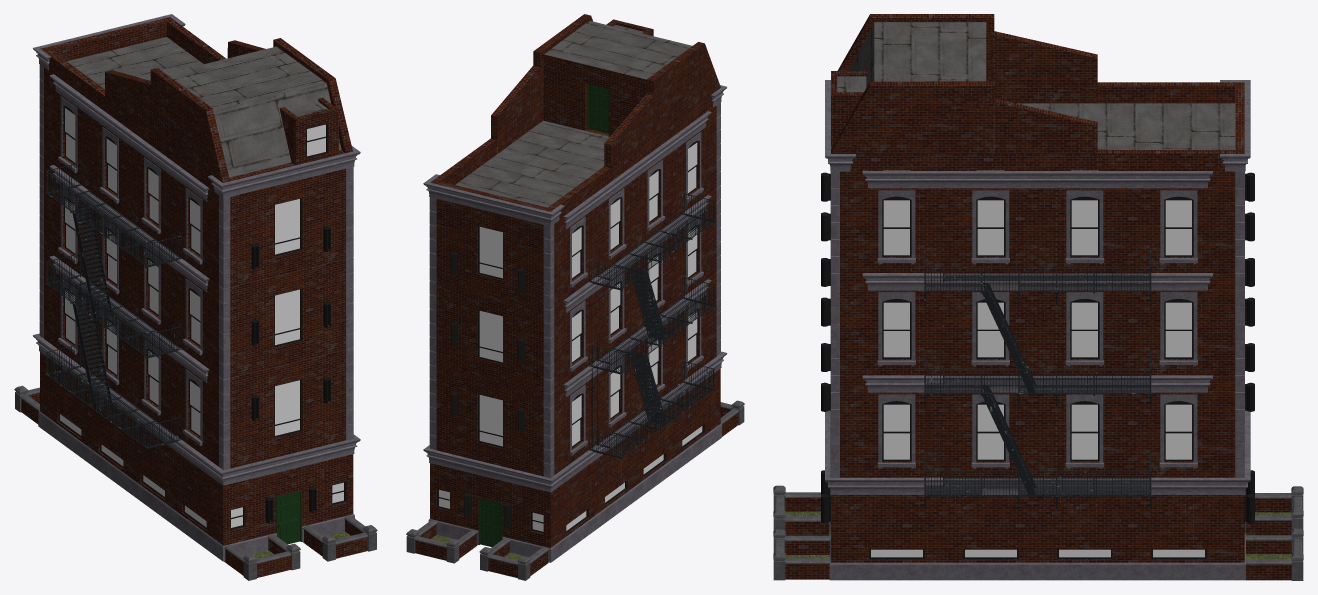
Rendered from Building_30.fbx.
3 views of the same model, side by side, from view 1: azimuth 30°, elevation 25°; view 2: azimuth 150°, elevation 25°; view 3: azimuth 270°, elevation 25° (orthographic). The views are drawn at different scales.
Visible parts, largest first — view 1: Building_30_LOD0; view 2: Building_30_LOD0; view 3: Building_30_LOD0.
Boxes of the visible parts, x1=… form: Building_30_LOD0: x1=14, y1=14, x2=377, y2=580; Building_30_LOD0: x1=406, y1=14, x2=744, y2=580; Building_30_LOD0: x1=773, y1=14, x2=1303, y2=580.
Size of what is drawn, in the model's own units: 854 by 1773 by 1720.
